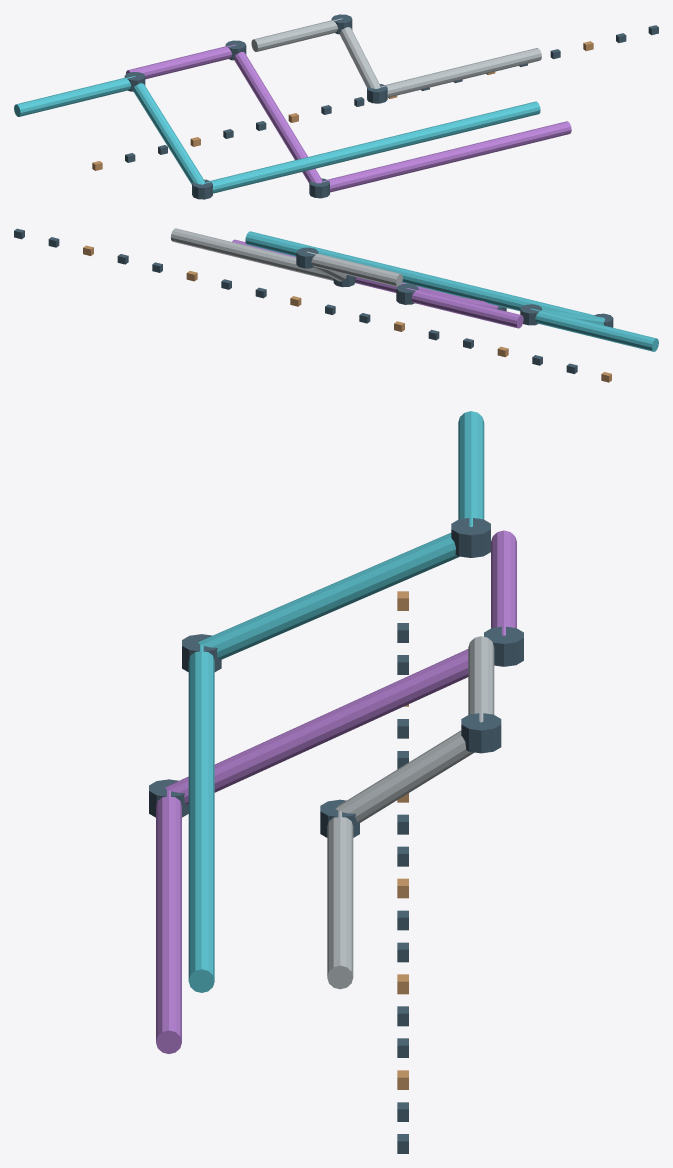
File: 24_L72_HeatedGasDeliveryPipeline.glb
3 renders of one model, top to bottom at view 1: azimuth 30°, elevation 25°; view 2: azimuth 150°, elevation 25°; view 3: azimuth 270°, elevation 25°, orthographic. The views are drawn at different scales.
Visible parts, largest first — view 1: HeatedGasDeliveryPipeline_Part_002, HeatedGasDeliveryPipeline_Part_009, HeatedGasDeliveryPipeline_Part_016, HeatedGasDeliveryPipeline_Part_008, HeatedGasDeliveryPipeline_Part_000, HeatedGasDeliveryPipeline_Part_001, HeatedGasDeliveryPipeline_Part_007, HeatedGasDeliveryPipeline_Part_014, HeatedGasDeliveryPipeline_Part_015, HeatedGasDeliveryPipeline_Part_006, HeatedGasDeliveryPipeline_Part_013, HeatedGasDeliveryPipeline_Part_020; view 2: HeatedGasDeliveryPipeline_Part_002, HeatedGasDeliveryPipeline_Part_016, HeatedGasDeliveryPipeline_Part_000, HeatedGasDeliveryPipeline_Part_007, HeatedGasDeliveryPipeline_Part_014, HeatedGasDeliveryPipeline_Part_009, HeatedGasDeliveryPipeline_Part_019, HeatedGasDeliveryPipeline_Part_012, HeatedGasDeliveryPipeline_Part_005, HeatedGasDeliveryPipeline_Part_001, HeatedGasDeliveryPipeline_Part_008; view 3: HeatedGasDeliveryPipeline_Part_002, HeatedGasDeliveryPipeline_Part_008, HeatedGasDeliveryPipeline_Part_001, HeatedGasDeliveryPipeline_Part_009, HeatedGasDeliveryPipeline_Part_016, HeatedGasDeliveryPipeline_Part_015, HeatedGasDeliveryPipeline_Part_000, HeatedGasDeliveryPipeline_Part_007, HeatedGasDeliveryPipeline_Part_014, HeatedGasDeliveryPipeline_Part_019, HeatedGasDeliveryPipeline_Part_005, HeatedGasDeliveryPipeline_Part_012.
Boxes of the visible parts, x1,y1,x2,y2 form: HeatedGasDeliveryPipeline_Part_002: (204,101,540,193); HeatedGasDeliveryPipeline_Part_009: (322,121,571,192); HeatedGasDeliveryPipeline_Part_016: (380,48,541,97); HeatedGasDeliveryPipeline_Part_008: (234,52,322,183); HeatedGasDeliveryPipeline_Part_000: (14,76,135,116); HeatedGasDeliveryPipeline_Part_001: (133,83,204,184); HeatedGasDeliveryPipeline_Part_007: (126,44,235,79); HeatedGasDeliveryPipeline_Part_014: (251,18,341,51); HeatedGasDeliveryPipeline_Part_015: (340,27,380,88); HeatedGasDeliveryPipeline_Part_006: (192,179,212,199); HeatedGasDeliveryPipeline_Part_013: (309,178,329,198); HeatedGasDeliveryPipeline_Part_020: (367,84,387,103); HeatedGasDeliveryPipeline_Part_002: (245,231,596,316); HeatedGasDeliveryPipeline_Part_016: (170,228,333,280); HeatedGasDeliveryPipeline_Part_000: (531,308,658,351); HeatedGasDeliveryPipeline_Part_007: (407,288,523,328); HeatedGasDeliveryPipeline_Part_014: (307,251,402,286); HeatedGasDeliveryPipeline_Part_009: (232,239,460,296); HeatedGasDeliveryPipeline_Part_019: (296,247,318,268); HeatedGasDeliveryPipeline_Part_012: (396,283,418,304); HeatedGasDeliveryPipeline_Part_005: (520,304,541,325); HeatedGasDeliveryPipeline_Part_001: (542,309,605,325); HeatedGasDeliveryPipeline_Part_008: (418,289,498,308); HeatedGasDeliveryPipeline_Part_002: (188,644,214,992); HeatedGasDeliveryPipeline_Part_008: (165,649,468,804); HeatedGasDeliveryPipeline_Part_001: (198,533,459,659); HeatedGasDeliveryPipeline_Part_009: (156,790,181,1053); HeatedGasDeliveryPipeline_Part_016: (327,811,353,989); HeatedGasDeliveryPipeline_Part_015: (336,730,474,822); HeatedGasDeliveryPipeline_Part_000: (458,411,484,526); HeatedGasDeliveryPipeline_Part_007: (491,530,516,635); HeatedGasDeliveryPipeline_Part_014: (468,636,494,721); HeatedGasDeliveryPipeline_Part_019: (461,713,501,753); HeatedGasDeliveryPipeline_Part_005: (451,518,490,557); HeatedGasDeliveryPipeline_Part_012: (484,626,523,666).
Bounding box in the file's own units: 5.71 × 0.824 × 1.49.
